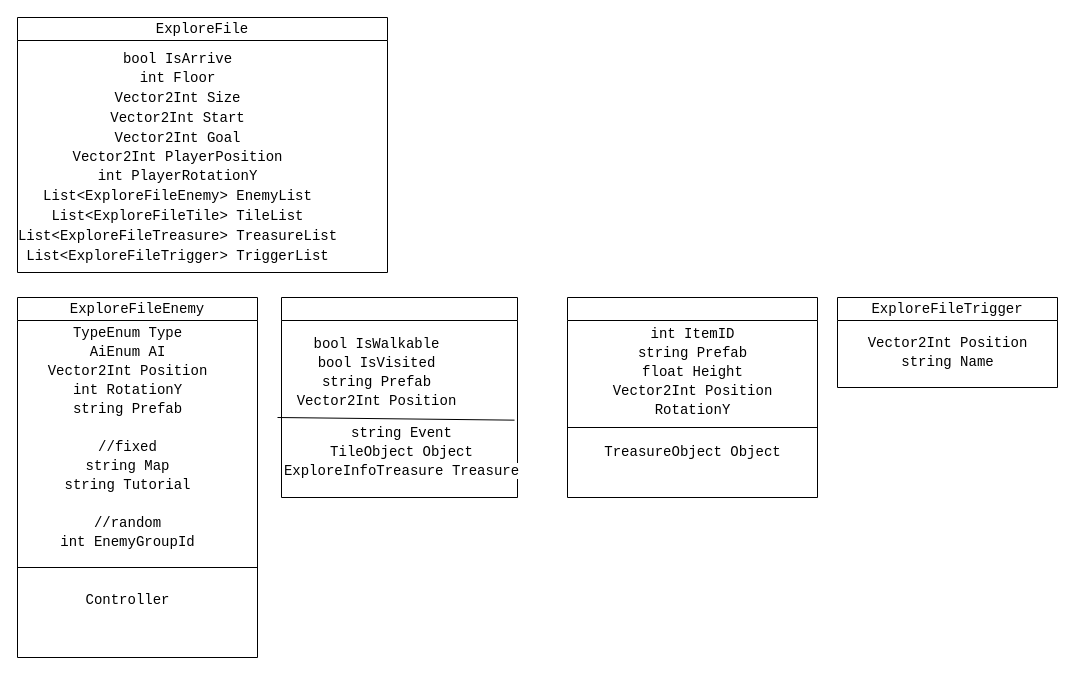
Some shapes in this 1075 by 675 pixel diagram are drawn without their labels. The shapes that lost their labels are listed below. From the top down, each one's box as (x1, y1, x2, y2) in pixels, then its label:
(280, 296, 518, 498): ExploreFileTile
(566, 296, 818, 498): ExploreFileTreasure
